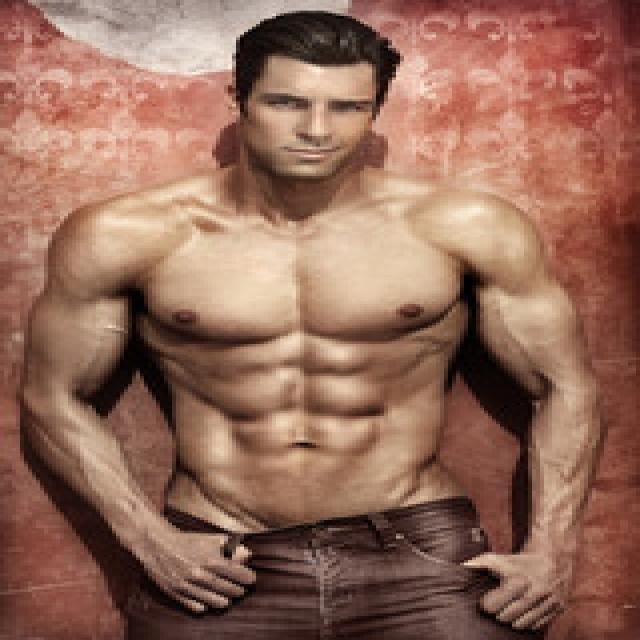human: (20, 5, 616, 640)
